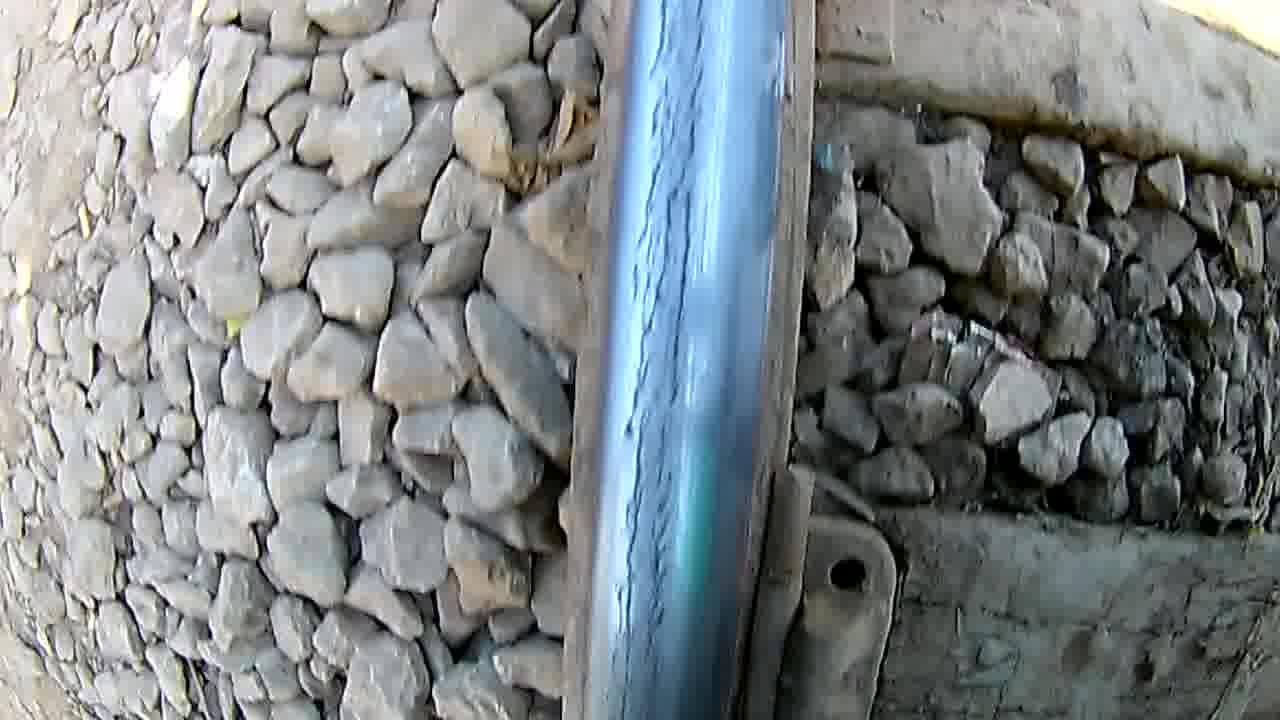normal_track: (610, 3, 729, 714)
